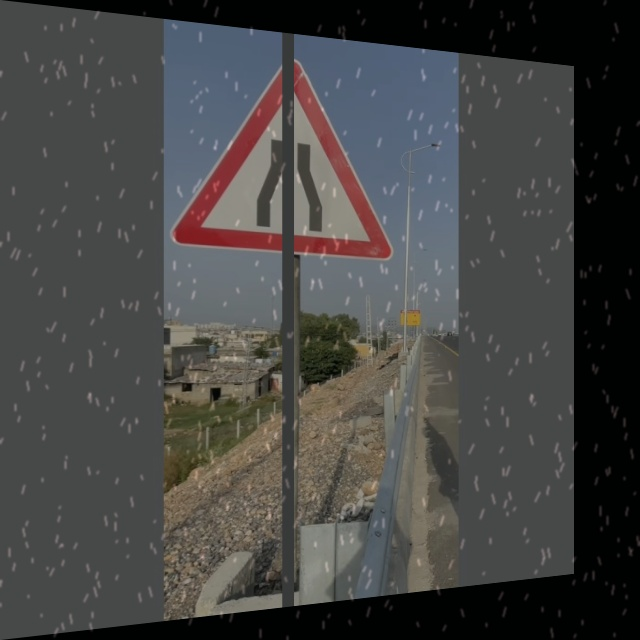Narrow_Road_Ahead: (187, 47, 392, 260)
